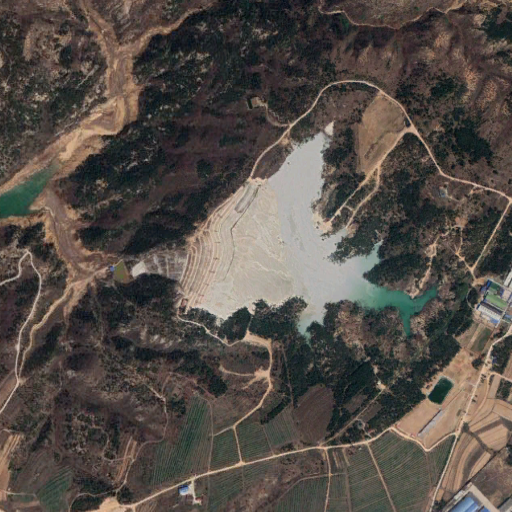tp: (132, 120, 439, 349)
